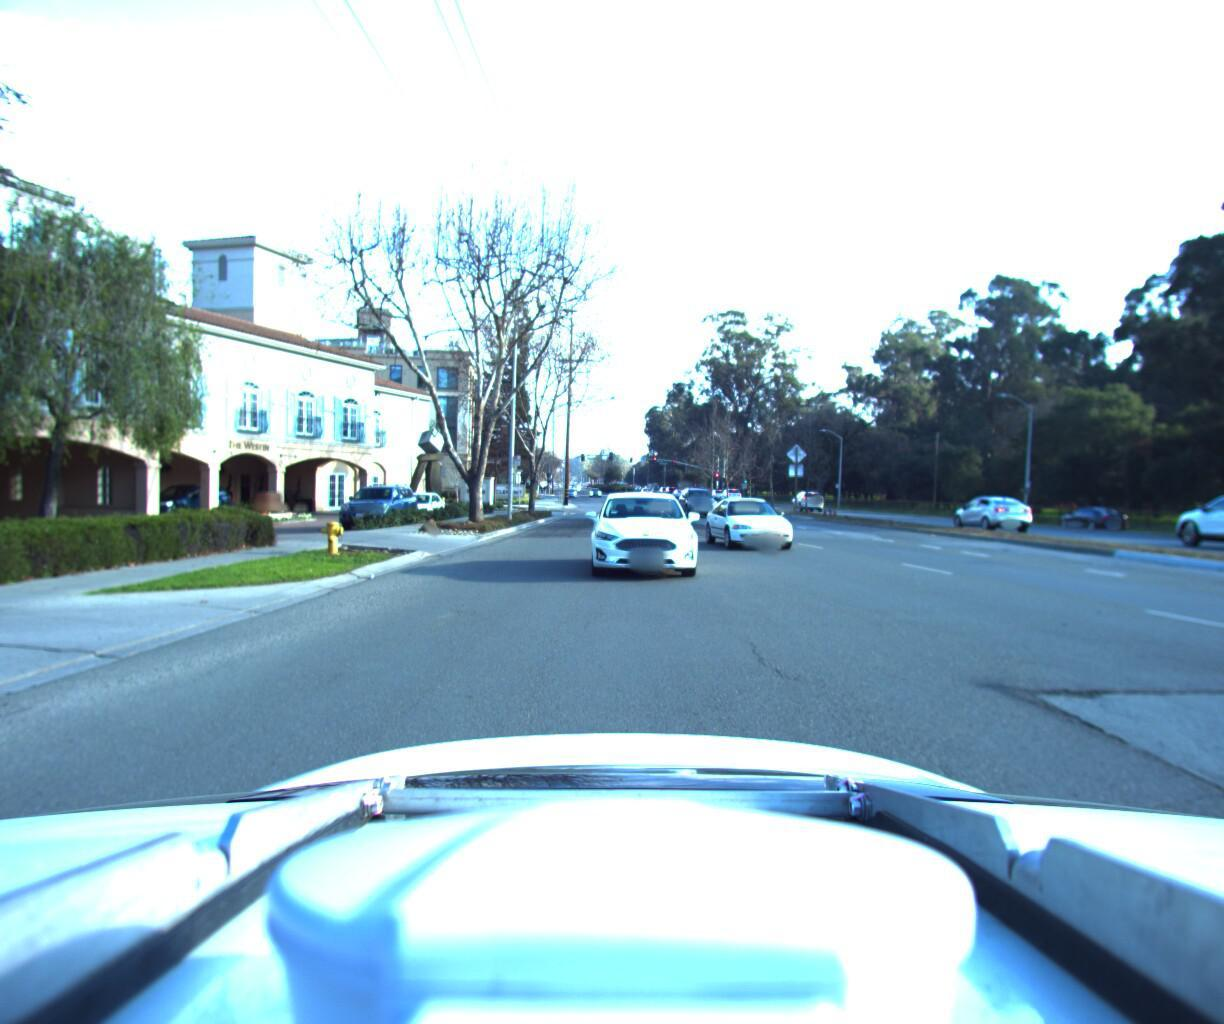car: (585, 480, 694, 579), (711, 487, 813, 550), (1147, 481, 1224, 548), (126, 474, 239, 516), (334, 472, 420, 527), (935, 486, 1022, 525), (389, 482, 450, 517), (1037, 494, 1113, 522), (676, 479, 726, 514), (788, 488, 824, 510)
